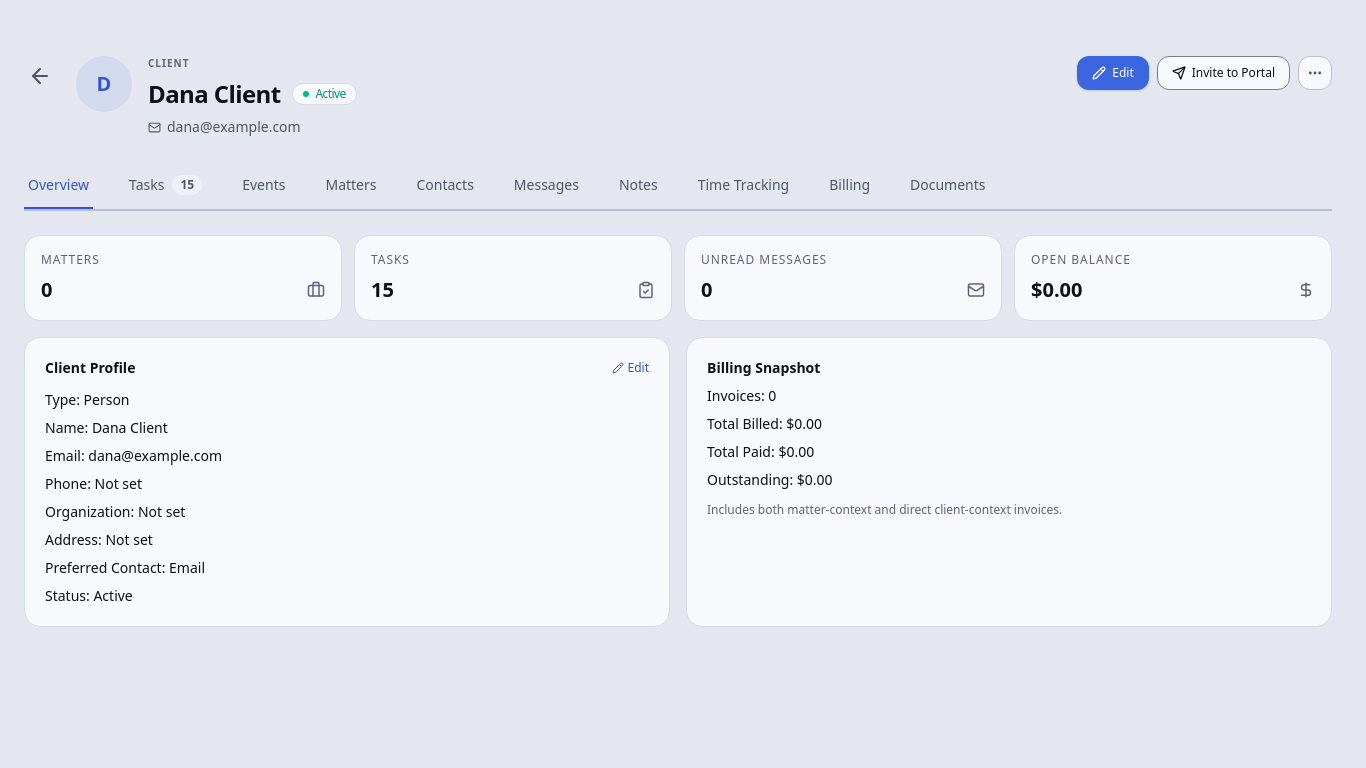
Test: filtering the task list by status › counts every task in the All option, not the page on screen
Expected: the heading "Dana Client Active" is shown, [148,77,357,110]
Click the 1st button "Tasks 15". click: (166, 186)
box: [125,163,206,209]
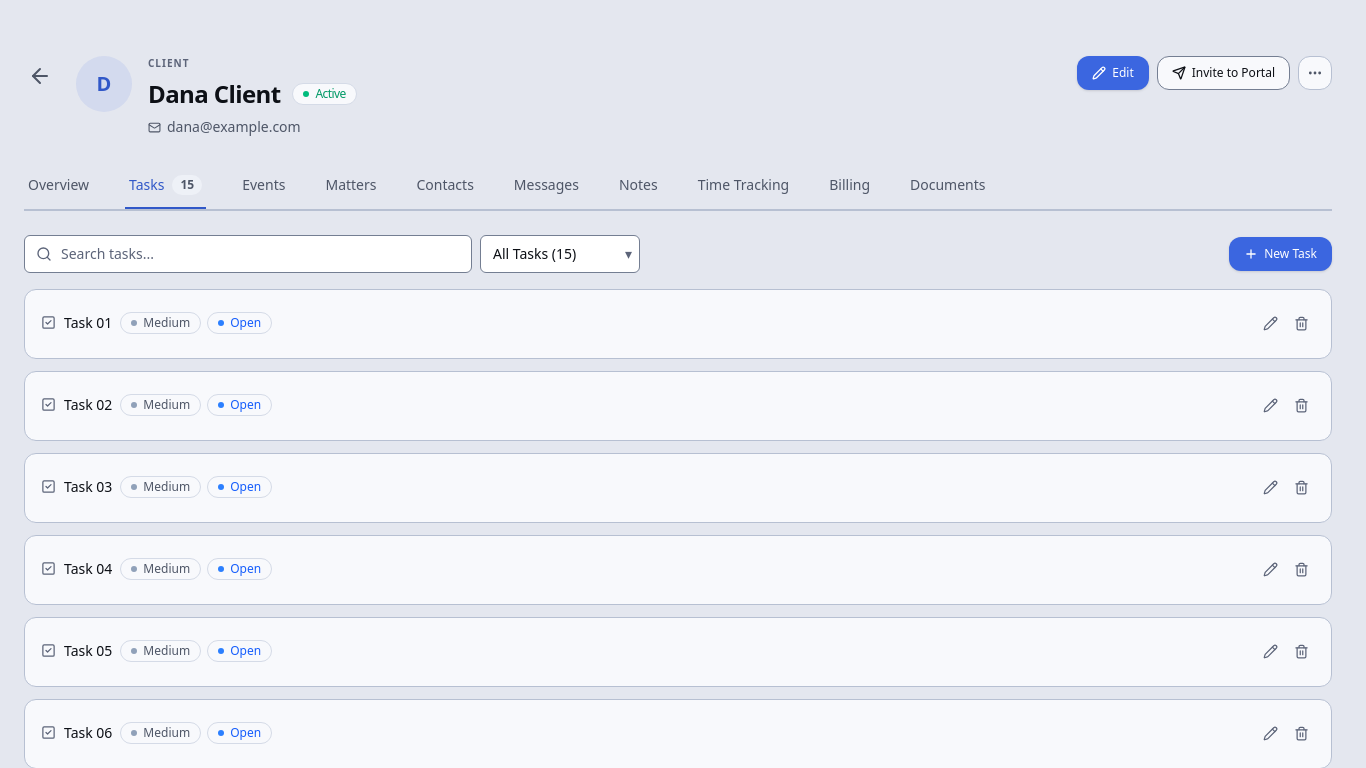
Expected: the text "Task 01" is shown, [41,313,112,333]
Expected: the button "All Tasks (15) ▾" is shown, [480,235,640,273]
